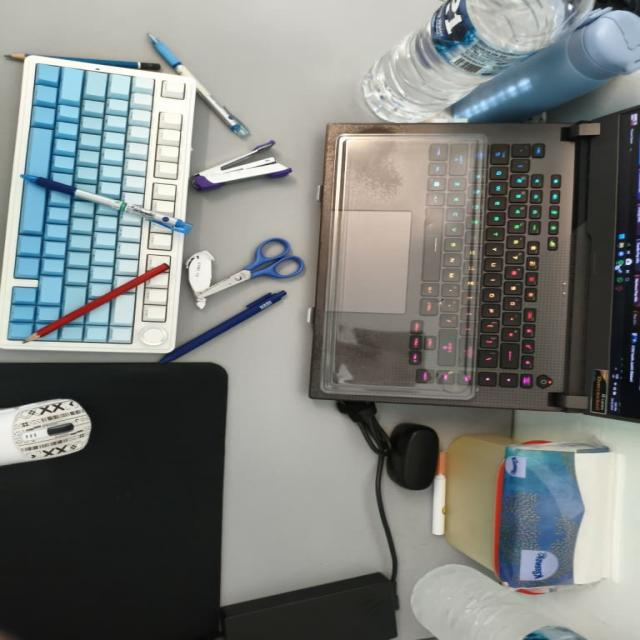pen: (148, 33, 249, 138), (21, 174, 192, 233), (160, 291, 286, 363)
pencil: (24, 264, 168, 342), (55, 56, 160, 70), (5, 54, 34, 61)
scissor: (199, 238, 303, 297)
stapler: (192, 140, 291, 190)
